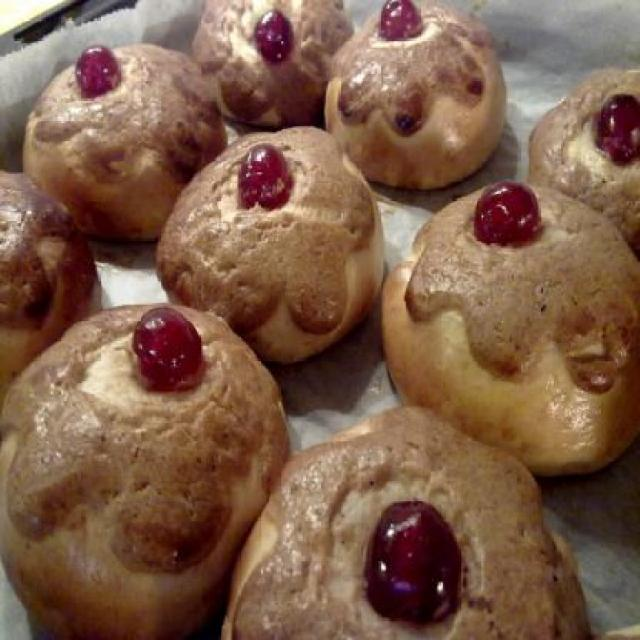Cookie: (0, 296, 289, 640), (221, 403, 597, 639), (380, 174, 640, 482), (151, 125, 387, 368), (20, 40, 229, 243), (324, 0, 508, 194), (0, 166, 102, 403), (526, 63, 638, 255), (191, 0, 357, 129)
